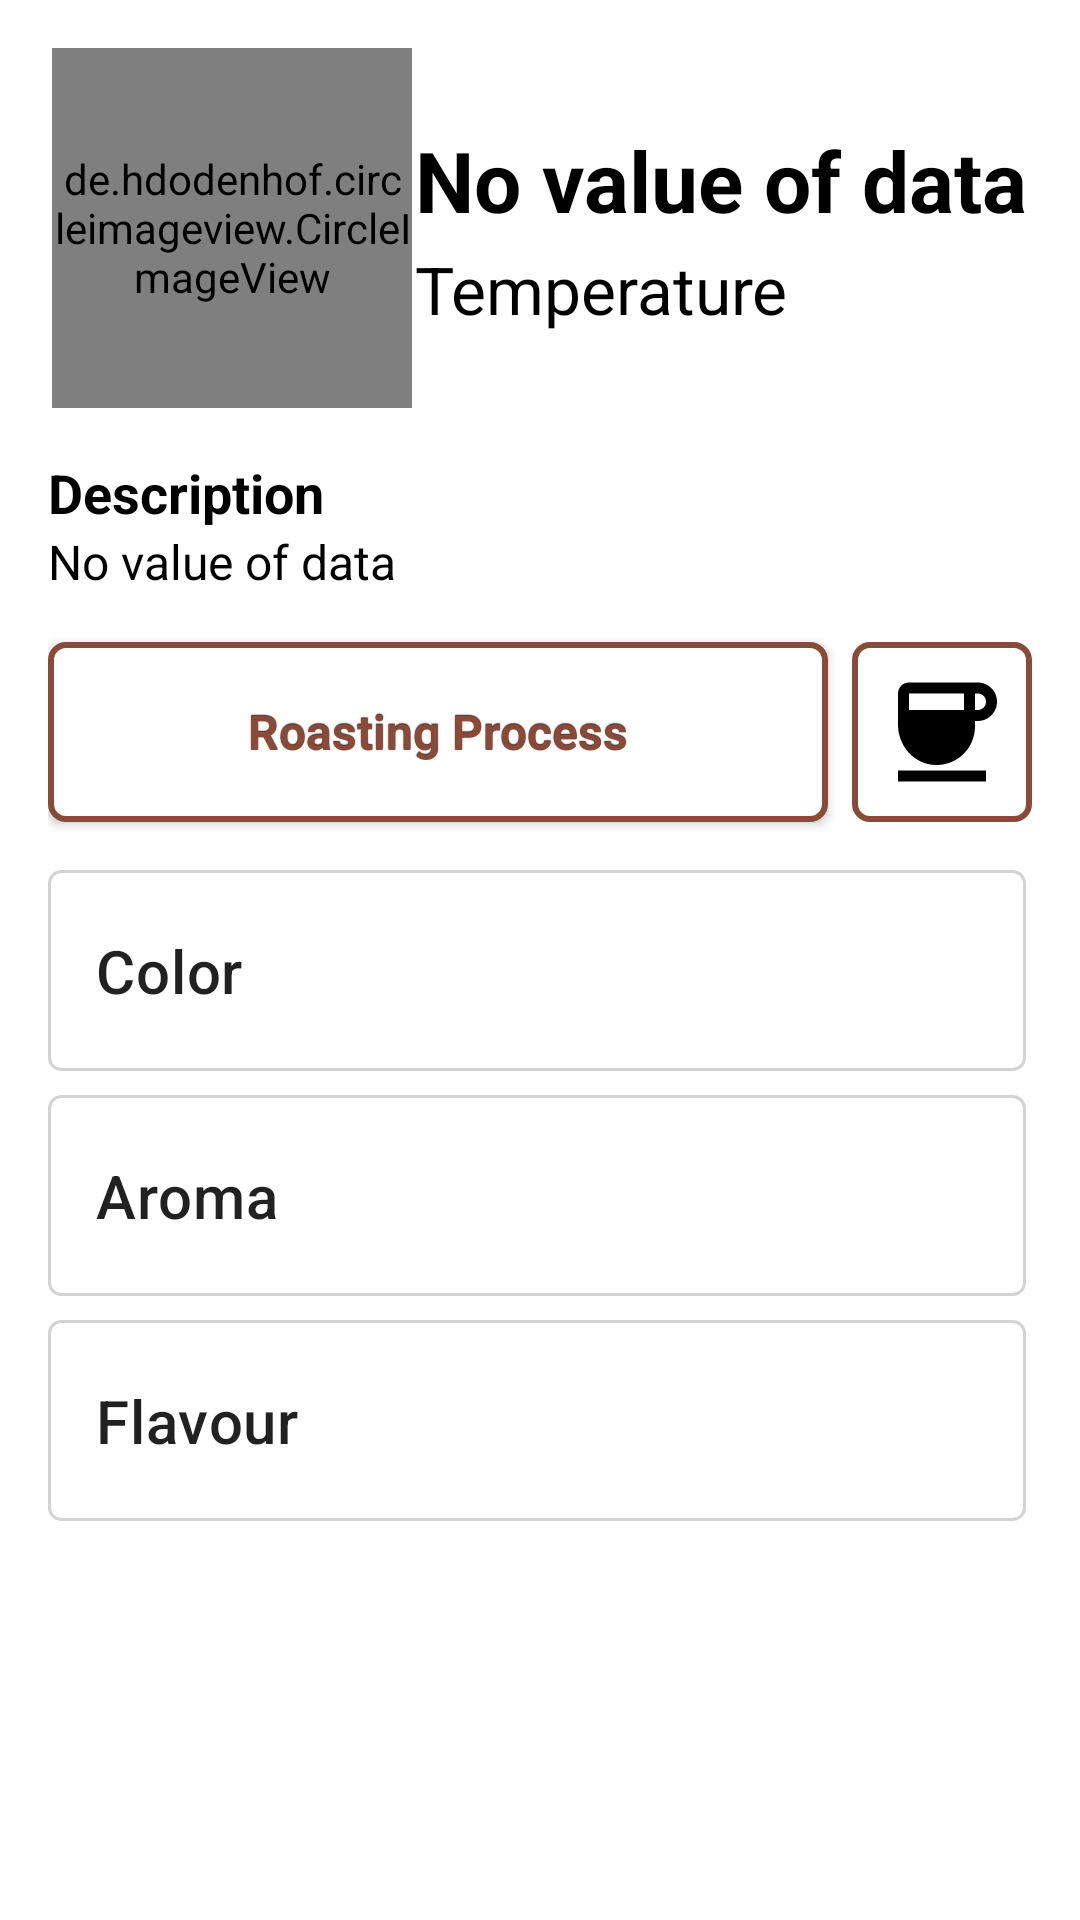

Where icons sit on this 1080px×1920px app screen, as Rect(x1, y1, x2, y2):
coffee: Rect(852, 642, 1032, 822)
